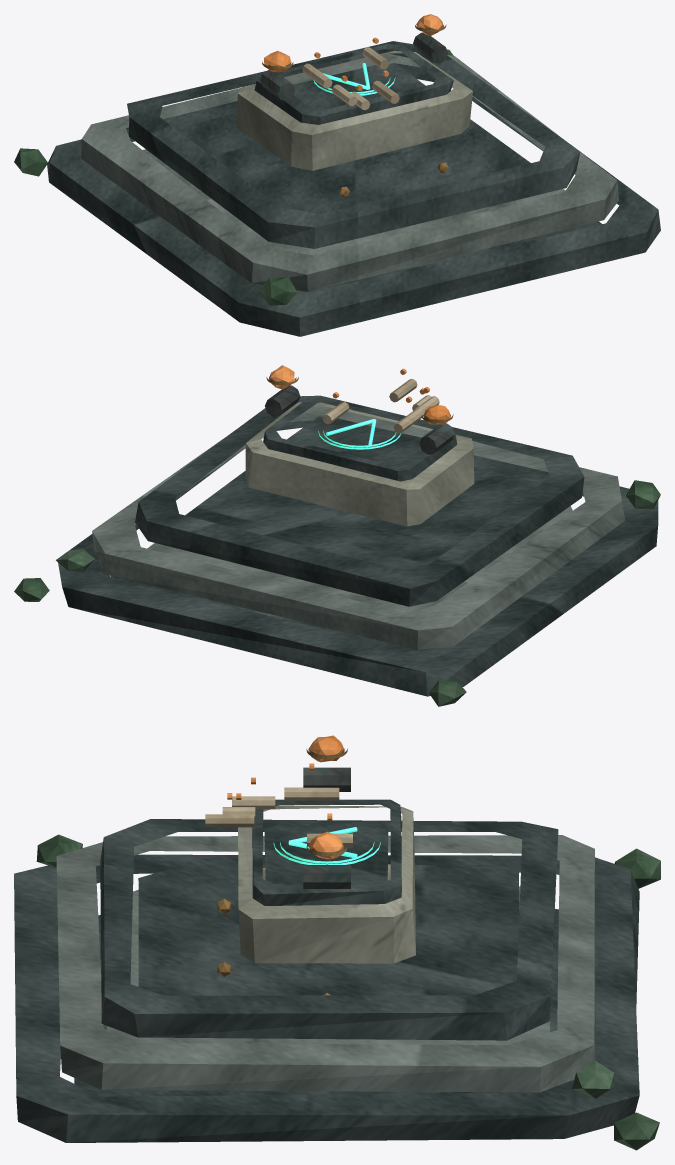
File: 0463_altar_13.glb
3 views of the same model, one above another, from view 1: azimuth 30°, elevation 25°; view 2: azimuth 150°, elevation 25°; view 3: azimuth 270°, elevation 25° (orthographic). The views are drawn at different scales.
Parts seen in each view (by area): view 1: stone_dark, stone, stone_light, moss, bone, iron, amber; view 2: stone_dark, stone, stone_light, moss, iron, bone, amber, glow; view 3: stone_dark, stone, stone_light, moss, bone, iron, amber, glow, brass.
Boxes of the visible parts, <box> form: stone_dark: <box>47,41,660,336</box>; stone: <box>81,53,618,291</box>; stone_light: <box>236,50,472,170</box>; moss: <box>14,49,453,305</box>; bone: <box>302,47,399,110</box>; iron: <box>260,32,448,100</box>; amber: <box>264,14,443,90</box>; stone_dark: <box>58,395,658,696</box>; stone: <box>92,406,625,649</box>; stone_light: <box>245,402,474,526</box>; moss: <box>14,480,660,706</box>; iron: <box>265,385,454,454</box>; bone: <box>322,379,439,433</box>; amber: <box>269,365,450,424</box>; glow: <box>318,419,400,449</box>; stone_dark: <box>14,799,639,1142</box>; stone: <box>56,835,595,1092</box>; stone_light: <box>238,805,415,963</box>; moss: <box>36,834,660,1150</box>; bone: <box>205,787,352,846</box>; iron: <box>303,767,350,888</box>; amber: <box>227,735,344,859</box>; glow: <box>273,827,380,864</box>; brass: <box>217,748,347,995</box>.
Size of the model in its own units: 3.32 by 1.28 by 3.26.
Materials: 9 (9 with a texture image).
